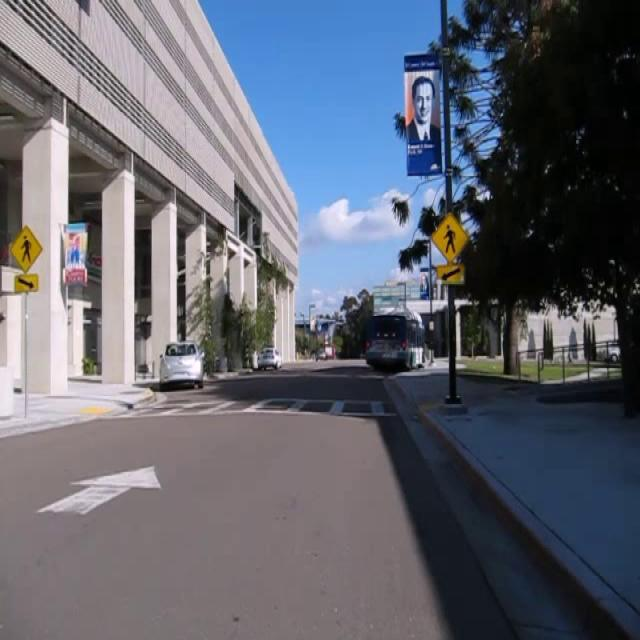pedestrianCrossing: (430, 211, 469, 264), (9, 223, 43, 273)
